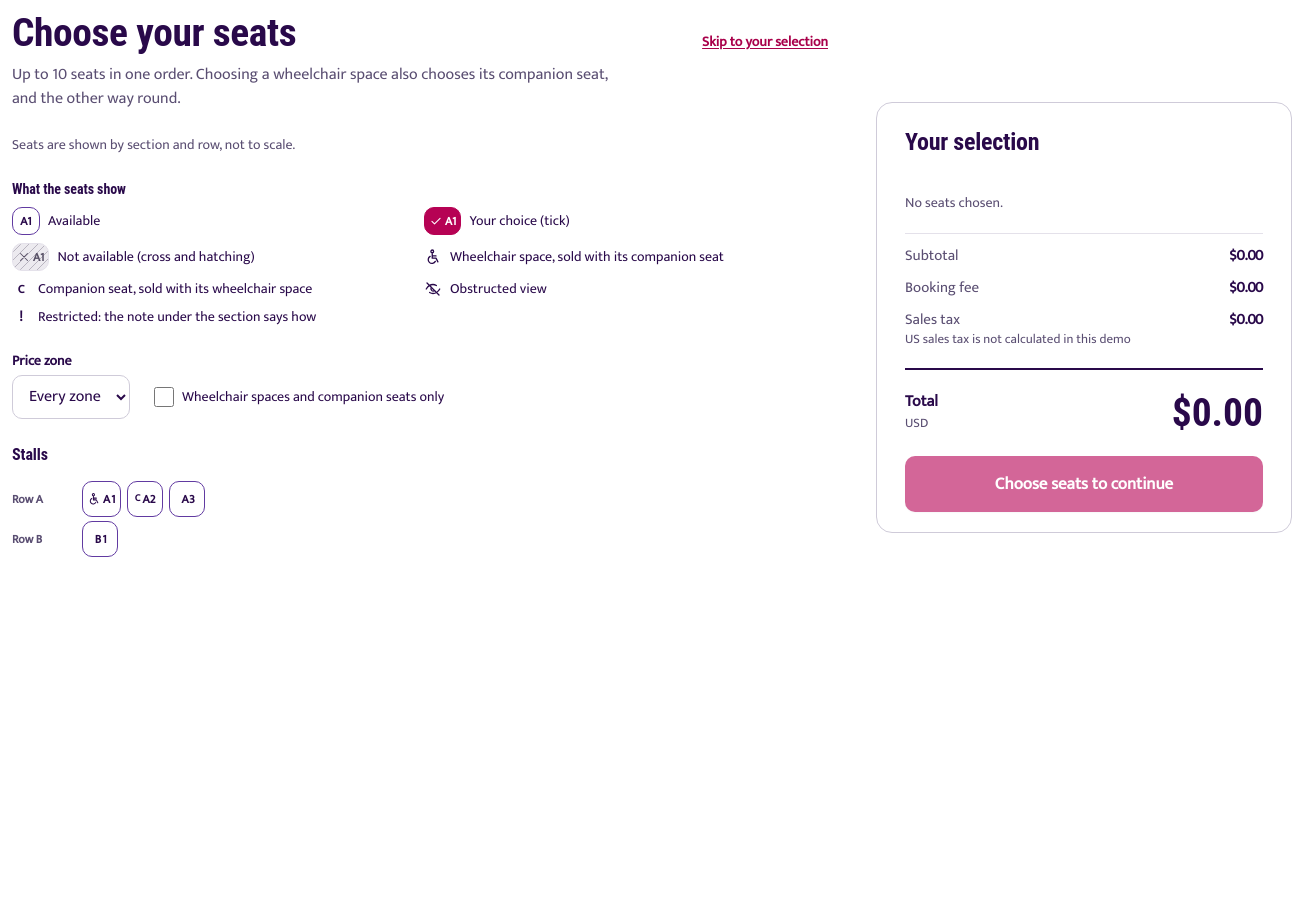
it: choosing seats › says in a polite status what each choice did, companions included
Click the button "A1" at (102, 499), box top-left (82, 481), bottom-right (121, 517)
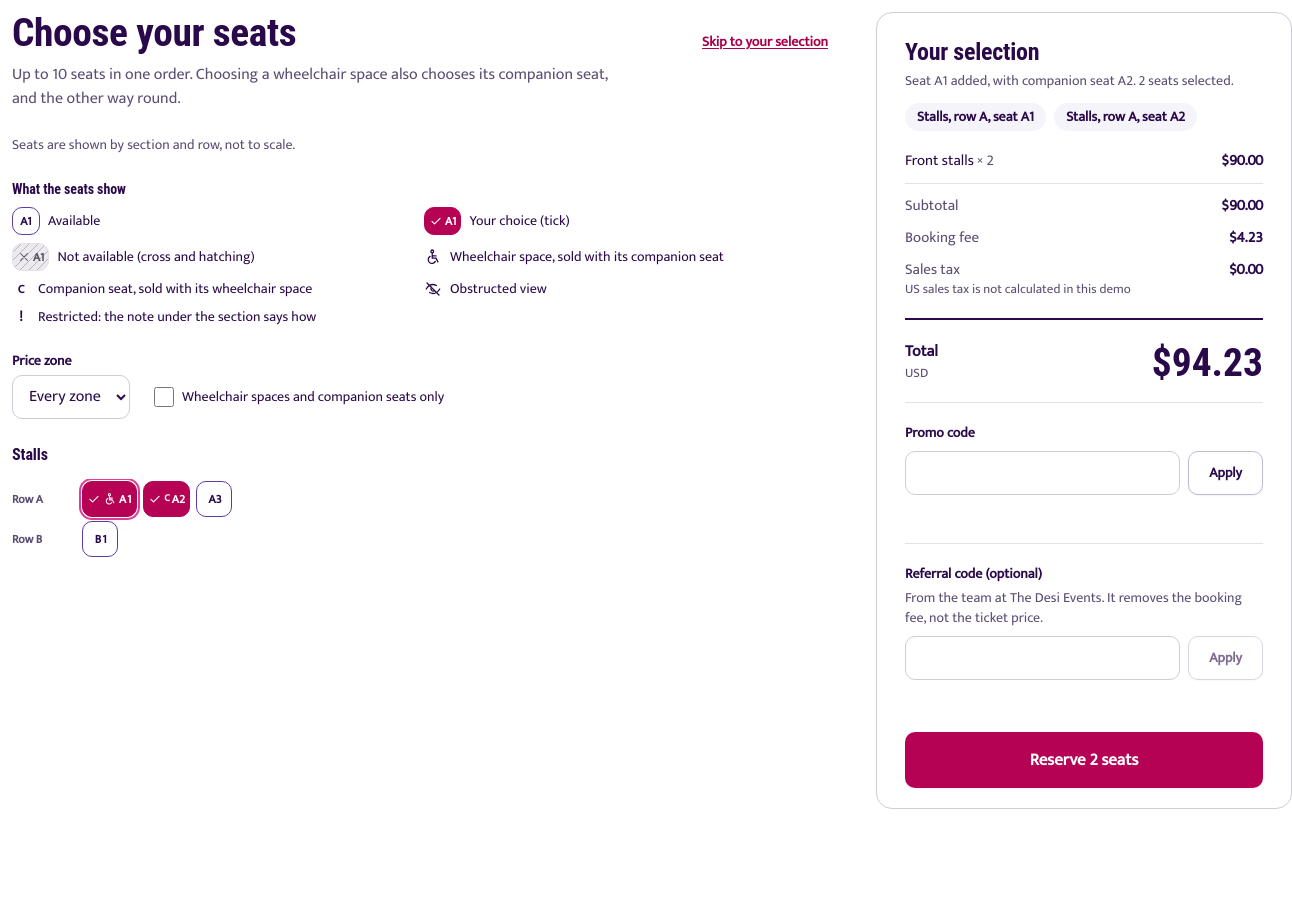
Check: the message "Seat A1 added, with companion seat A2. 2 seats selected." is shown, box top-left (905, 71), bottom-right (1263, 91)
Check: the list named "Chosen seats" shows "Stalls, row A, seat A1", box top-left (917, 105), bottom-right (1034, 128)
Check: the button "Reserve 2 seats" is enabled, box top-left (905, 732), bottom-right (1263, 788)
Click the button "C A2" at (167, 499), box top-left (143, 481), bottom-right (190, 517)
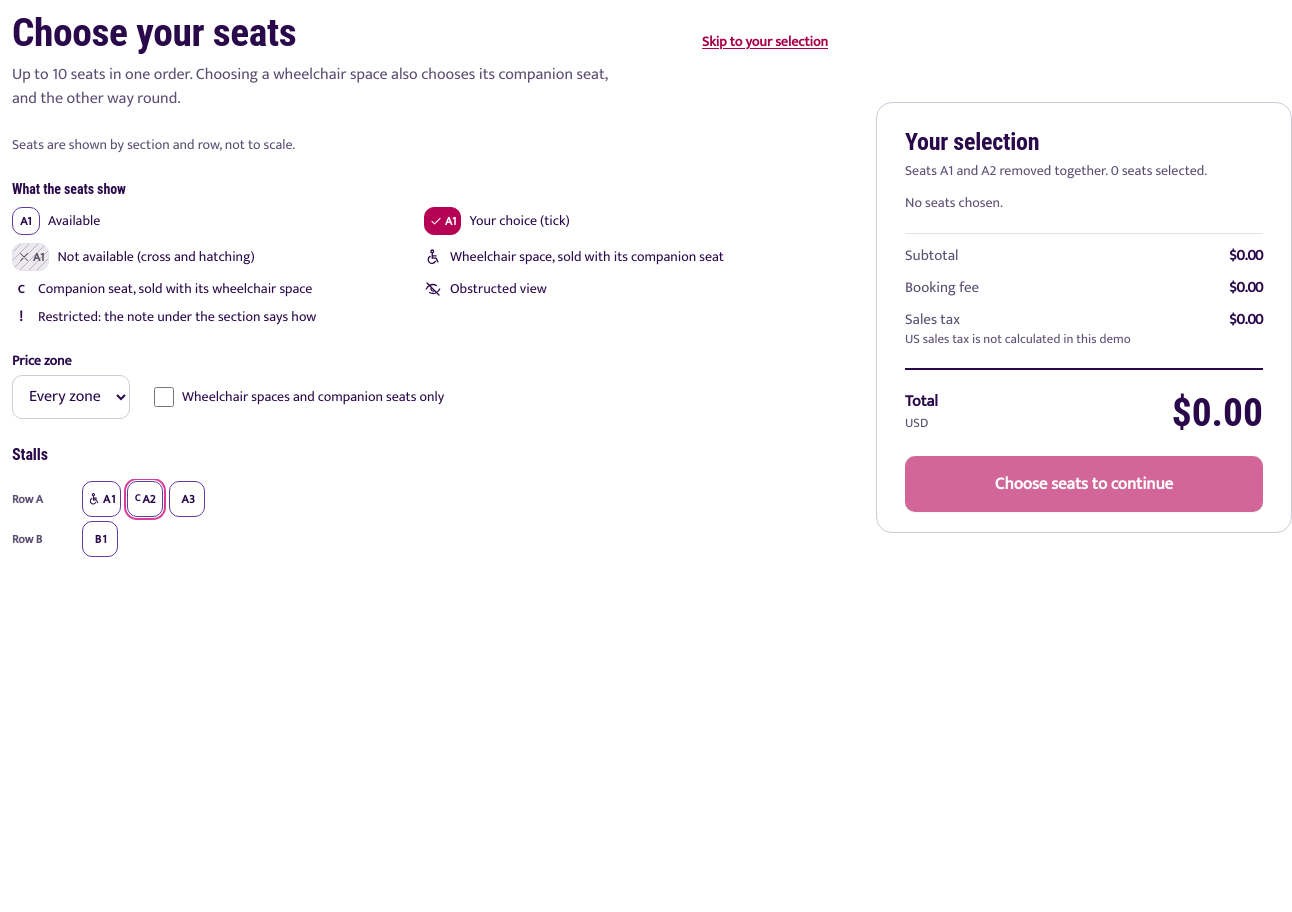
Check: the message reads "Seats A1 and A2 removed together. 0 seats selected.", box top-left (905, 159), bottom-right (1207, 182)
Check: the button "Choose seats to continue" is disabled, box top-left (905, 456), bottom-right (1263, 512)
